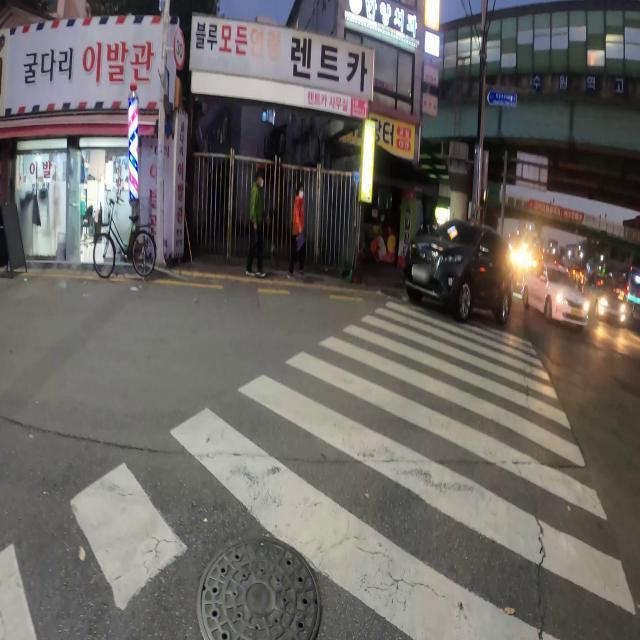crosswalk: (1, 297, 638, 638)
